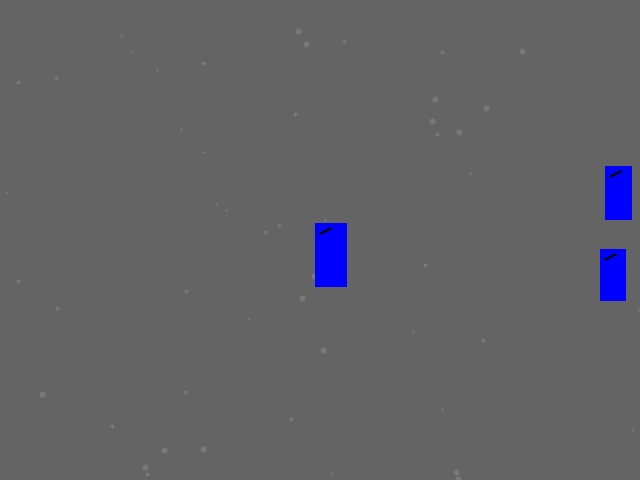motorcycle: (315, 223, 346, 286), (605, 166, 631, 219), (600, 249, 625, 300)
